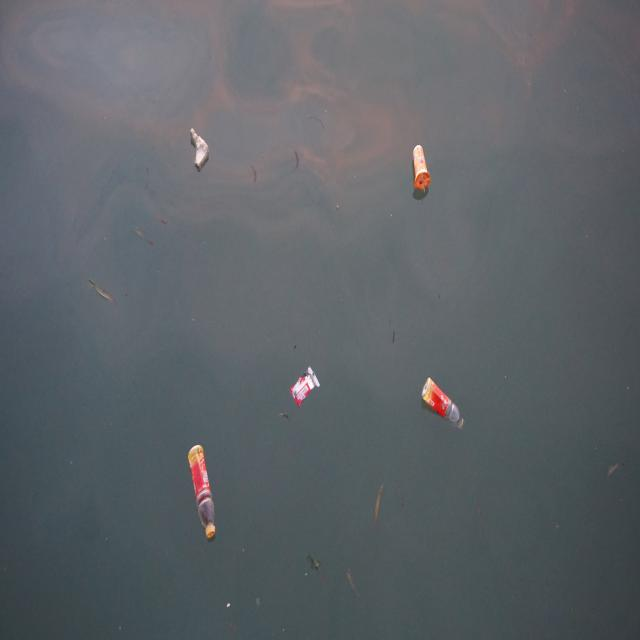Botol Plastik: (187, 438, 223, 542), (419, 373, 474, 437)
Bungkus Makanan: (289, 364, 322, 410)
Bungkus Minuman: (411, 142, 434, 198)
